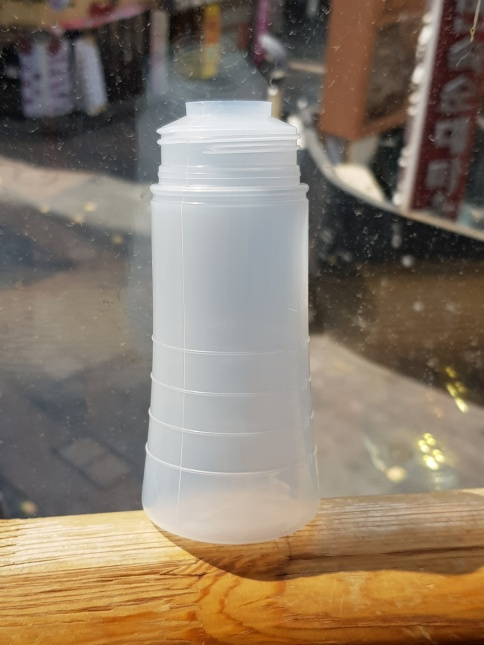Plastic: (139, 94, 330, 555)
